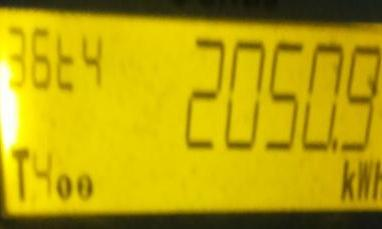.: (337, 157, 382, 204)
0: (330, 140, 340, 152)
1: (303, 38, 345, 158), (223, 39, 266, 152)
3: (182, 38, 226, 151)
6: (267, 39, 303, 155)
:: (341, 39, 381, 156)
